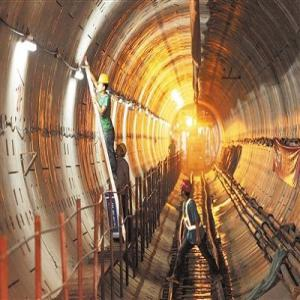red: (179, 180, 193, 200)
yellow: (97, 72, 110, 94), (116, 143, 128, 158)
